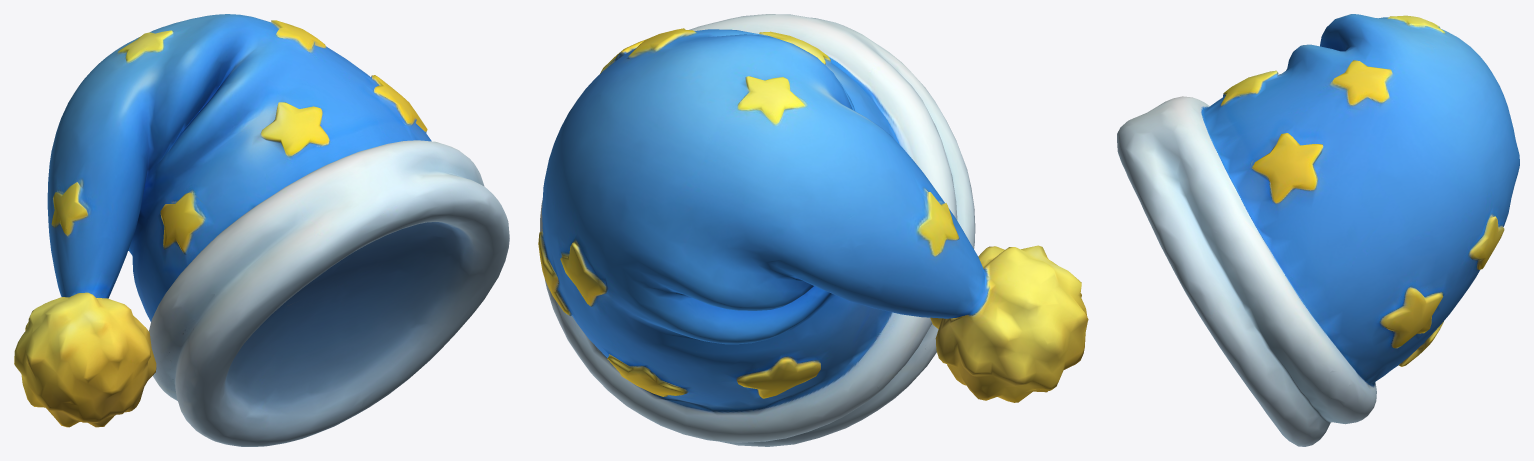
The model's file is cs-night-cap.glb.
3 views of the same model, side by side, from view 1: azimuth 30°, elevation 25°; view 2: azimuth 150°, elevation 25°; view 3: azimuth 270°, elevation 25° (orthographic). The views are drawn at different scales.
Visible parts, largest first — view 1: tripo_node_2867b0ac-c699-493f-8c73-aa778ddeb732; view 2: tripo_node_2867b0ac-c699-493f-8c73-aa778ddeb732; view 3: tripo_node_2867b0ac-c699-493f-8c73-aa778ddeb732.
Part boxes in pixels (left/top/right/bottom): tripo_node_2867b0ac-c699-493f-8c73-aa778ddeb732: left=14, top=14, right=509, bottom=446; tripo_node_2867b0ac-c699-493f-8c73-aa778ddeb732: left=538, top=14, right=1088, bottom=446; tripo_node_2867b0ac-c699-493f-8c73-aa778ddeb732: left=1117, top=14, right=1519, bottom=446.
Bounding box in the file's own units: 1 × 0.8157 × 0.7766.
Materials: 1 (1 with a texture image).
